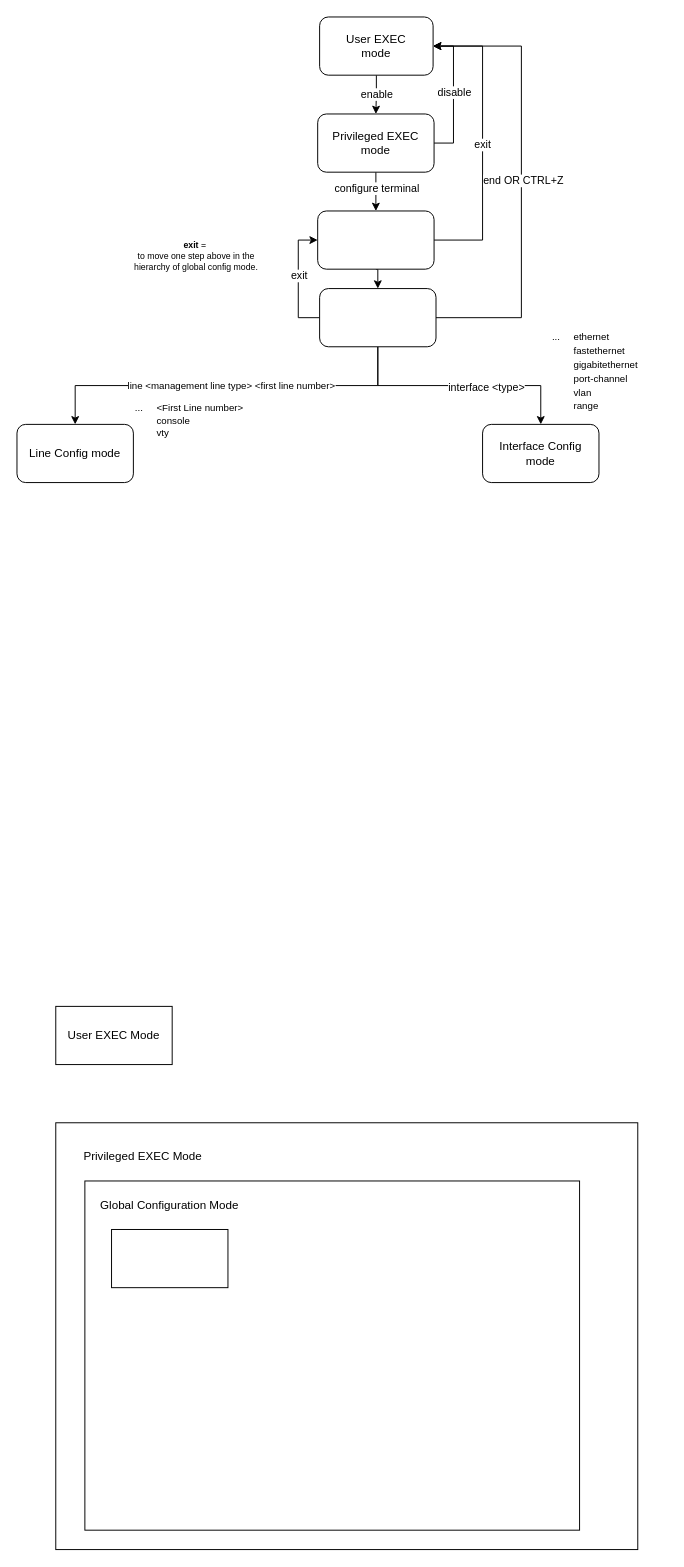
The diagram is 684 pixels wide and 1567 high, and some of its shapes have lost their labels. Each missing label, with the centre of its shape:
"Global Config mode" goes at [375,239].
"subconfig mode" goes at [377,317].
